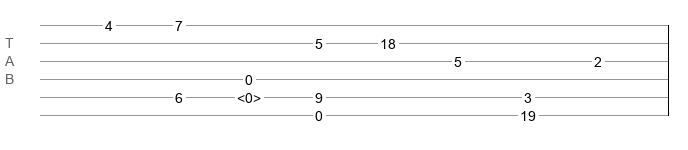0: (245, 72, 253, 82), (315, 108, 323, 118)
18: (380, 36, 396, 46)
19: (520, 108, 536, 118)
2: (594, 54, 602, 64)
3: (524, 90, 532, 100)
4: (105, 18, 113, 28)
5: (315, 36, 323, 46), (454, 54, 462, 64)
6: (175, 90, 183, 100)
7: (175, 18, 183, 28)
9: (315, 90, 323, 100)
harmonic: (237, 90, 261, 100)
